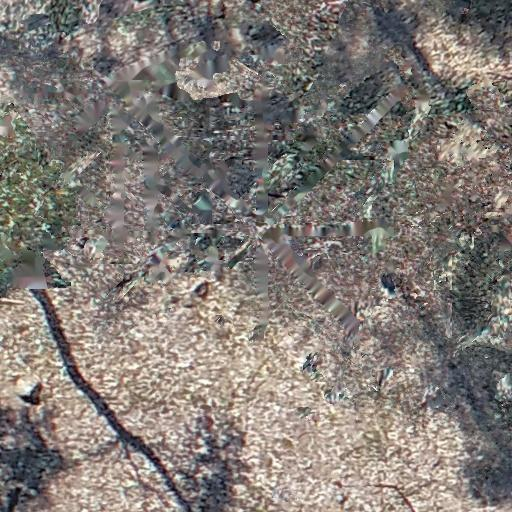stone: (16, 372, 44, 401)
